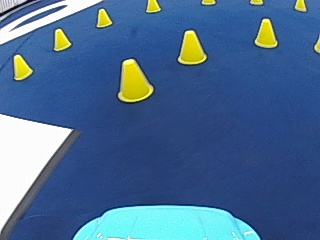cone: (116, 57, 153, 102), (176, 28, 207, 64), (254, 17, 278, 47), (11, 53, 32, 79), (52, 27, 70, 50), (95, 7, 112, 27), (146, 0, 160, 12), (294, 0, 306, 11)
